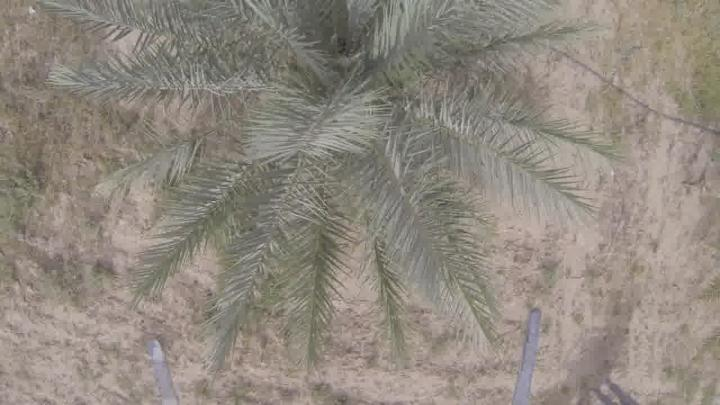Date-Palm-Crown: (176, 0, 476, 262)
